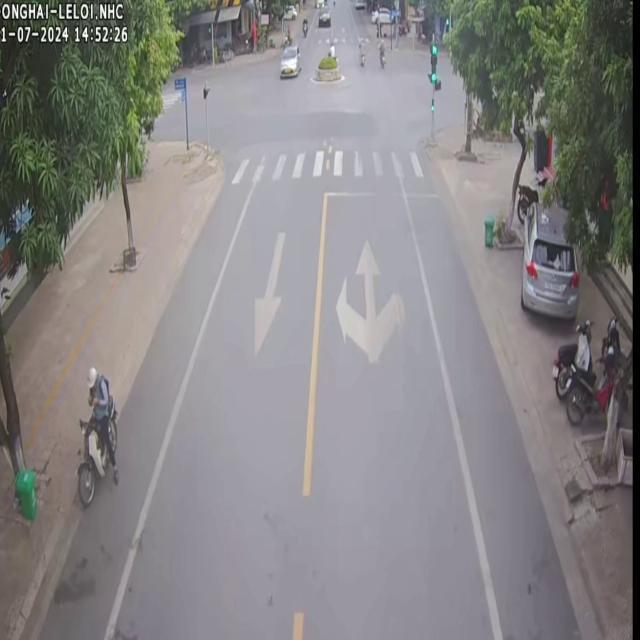car: (519, 200, 577, 317), (278, 45, 298, 75)
green_light: (431, 43, 437, 85)
motobike: (77, 365, 117, 505), (564, 347, 614, 422), (550, 318, 590, 398), (376, 36, 384, 66)
stop_line: (327, 189, 442, 196)
